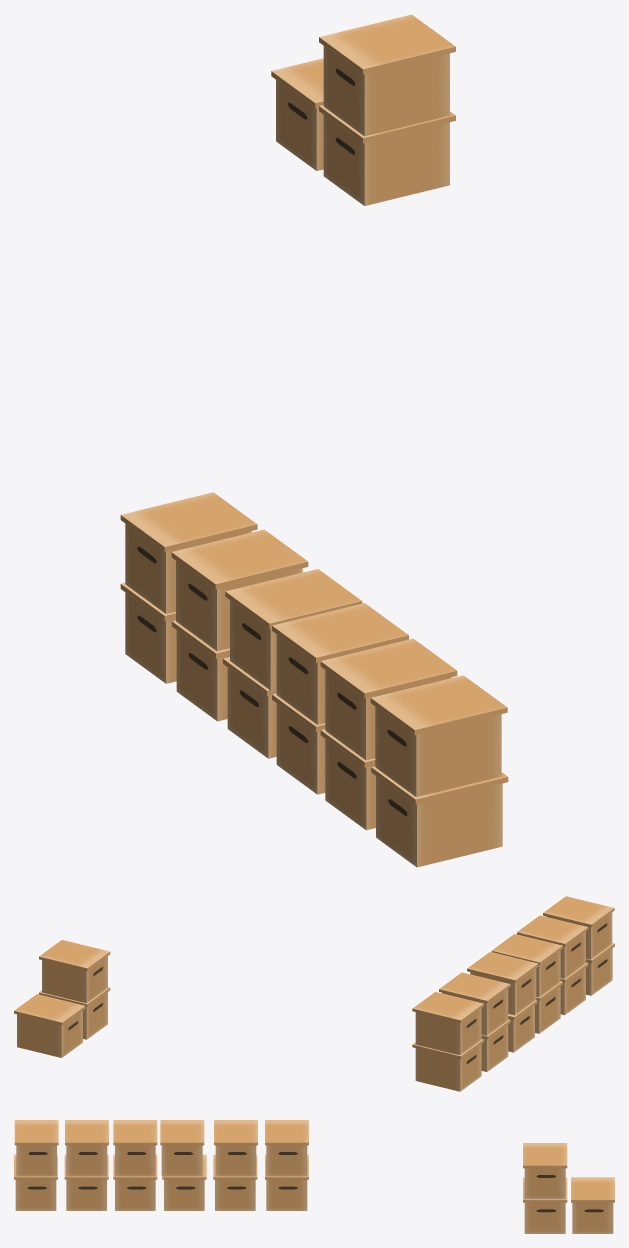
File: Boxes.fbx
3 views of the same model, one above another, from view 1: azimuth 30°, elevation 25°; view 2: azimuth 150°, elevation 25°; view 3: azimuth 270°, elevation 25° (orthographic). The views are drawn at different scales.
Visible parts, largest first — view 1: StorageBox_, StorageBox_13, StorageBox_1, StorageBox_14, StorageBox_8, StorageBox_10, StorageBox_2, StorageBox_4, StorageBox_6, StorageBox_12, StorageBox_9, StorageBox_11 (+3 smaller); view 2: StorageBox_10, StorageBox_12, StorageBox_13, StorageBox_11, StorageBox_6, StorageBox_8, StorageBox_, StorageBox_2, StorageBox_4, StorageBox_14, StorageBox_9, StorageBox_7 (+3 smaller); view 3: StorageBox_6, StorageBox_12, StorageBox_10, StorageBox_2, StorageBox_8, StorageBox_4, StorageBox_, StorageBox_13, StorageBox_14, StorageBox_1, StorageBox_11, StorageBox_7 (+3 smaller).
Boxes of the visible parts, x1,y1,x2,y2 form: StorageBox_: [370, 675, 507, 796]; StorageBox_13: [319, 14, 455, 136]; StorageBox_1: [371, 766, 508, 867]; StorageBox_14: [319, 105, 455, 205]; StorageBox_8: [171, 529, 308, 651]; StorageBox_10: [120, 492, 257, 613]; StorageBox_2: [320, 638, 457, 760]; StorageBox_4: [272, 603, 408, 724]; StorageBox_6: [225, 569, 362, 691]; StorageBox_12: [271, 58, 323, 170]; StorageBox_9: [172, 620, 229, 721]; StorageBox_11: [120, 582, 176, 683]; StorageBox_10: [412, 992, 483, 1055]; StorageBox_12: [14, 994, 85, 1057]; StorageBox_13: [39, 940, 110, 1003]; StorageBox_11: [412, 1039, 483, 1091]; StorageBox_6: [467, 952, 538, 1015]; StorageBox_8: [439, 972, 510, 1035]; StorageBox_: [543, 896, 614, 959]; StorageBox_2: [517, 915, 588, 978]; StorageBox_4: [491, 934, 562, 997]; StorageBox_14: [39, 987, 110, 1039]; StorageBox_9: [481, 1019, 510, 1071]; StorageBox_7: [508, 1000, 537, 1052]; StorageBox_6: [160, 1120, 204, 1176]; StorageBox_12: [571, 1177, 614, 1233]; StorageBox_10: [265, 1120, 308, 1176]; StorageBox_2: [65, 1120, 108, 1176]; StorageBox_8: [214, 1120, 257, 1176]; StorageBox_4: [113, 1120, 157, 1176]; StorageBox_: [14, 1120, 58, 1176]; StorageBox_13: [523, 1143, 567, 1198]; StorageBox_14: [523, 1177, 567, 1233]; StorageBox_1: [14, 1154, 57, 1210]; StorageBox_11: [265, 1154, 308, 1210]; StorageBox_7: [162, 1154, 206, 1210].
Bounding box in the file's own units: 3.6 × 1.98 × 6.82.
